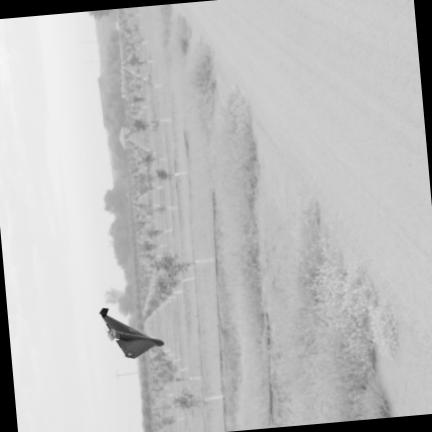Shahed: (101, 308, 163, 357)
